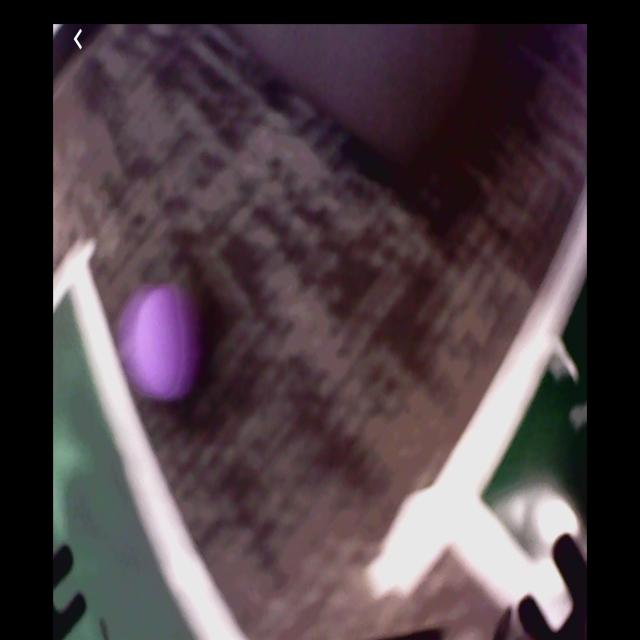ball: (130, 289, 201, 402)
